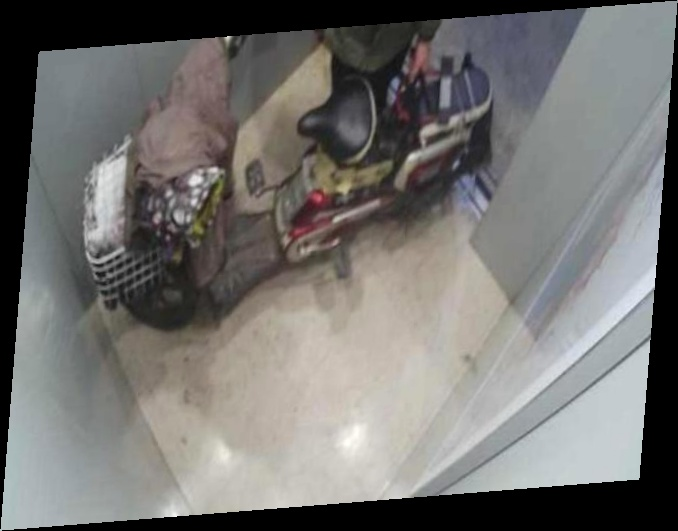electromobile: (52, 52, 508, 327)
